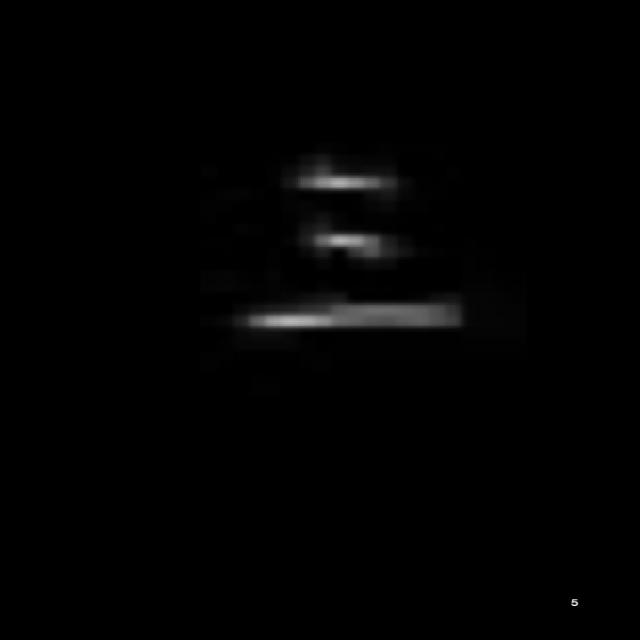3 -three-: (228, 163, 480, 350)
